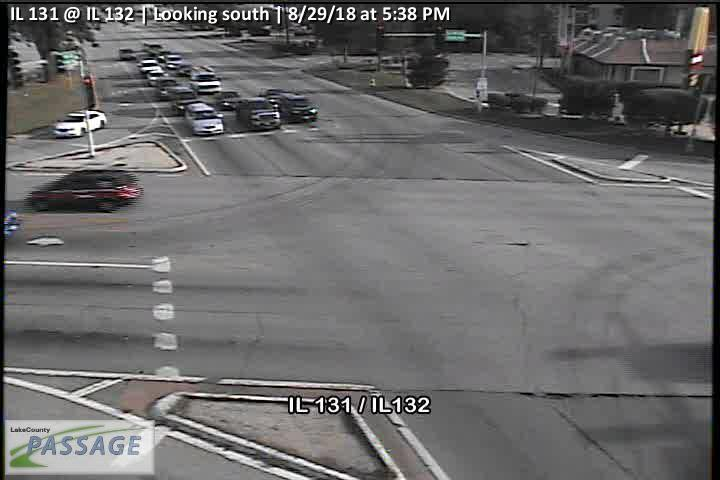SUV: (235, 95, 282, 130), (185, 101, 226, 137)
Sedan: (27, 166, 144, 213), (52, 109, 107, 138), (277, 90, 319, 122), (164, 87, 202, 111), (188, 69, 223, 92), (213, 87, 243, 111), (153, 75, 178, 98), (136, 56, 162, 74), (145, 68, 169, 86)
